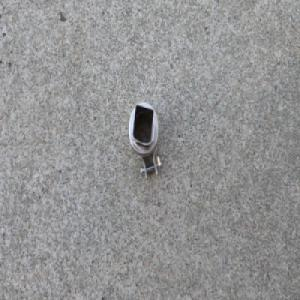MetalPart: (127, 100, 163, 181)
